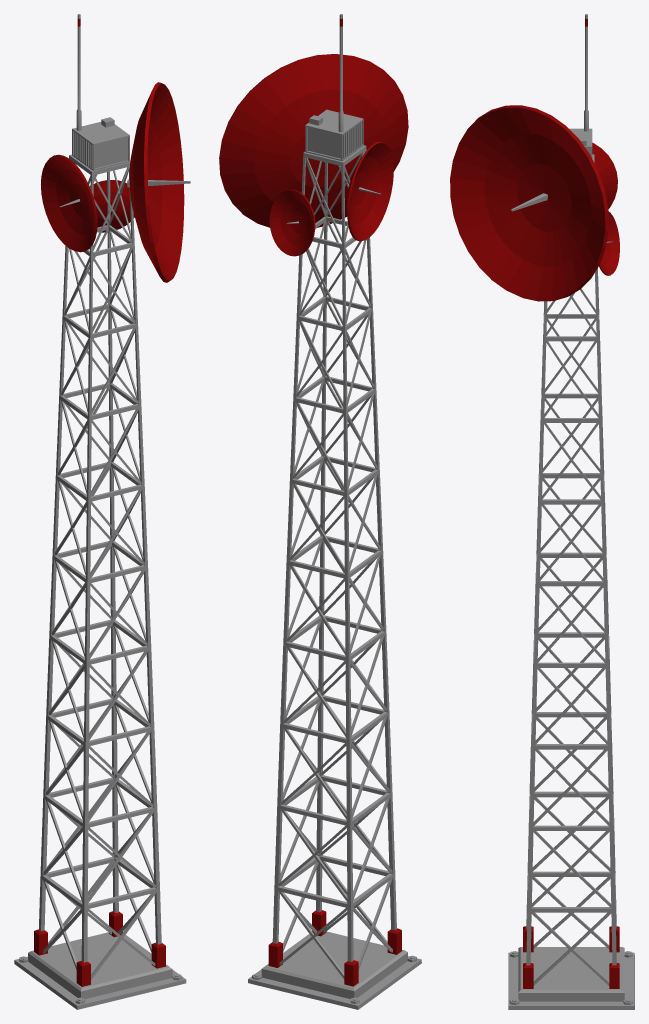
The model's file is Antenna1.FBX.
3 renders of one model, left to right at view 1: azimuth 30°, elevation 25°; view 2: azimuth 150°, elevation 25°; view 3: azimuth 270°, elevation 25°, orthographic.
Visible parts, largest first — view 1: Antenna1; view 2: Antenna1; view 3: Antenna1.
Part boxes in pixels (bbox=[...]): Antenna1: bbox=[14, 14, 190, 1009]; Antenna1: bbox=[219, 14, 421, 1009]; Antenna1: bbox=[450, 14, 634, 1009].
Size of the model in its own units: 209 by 1254 by 218.
